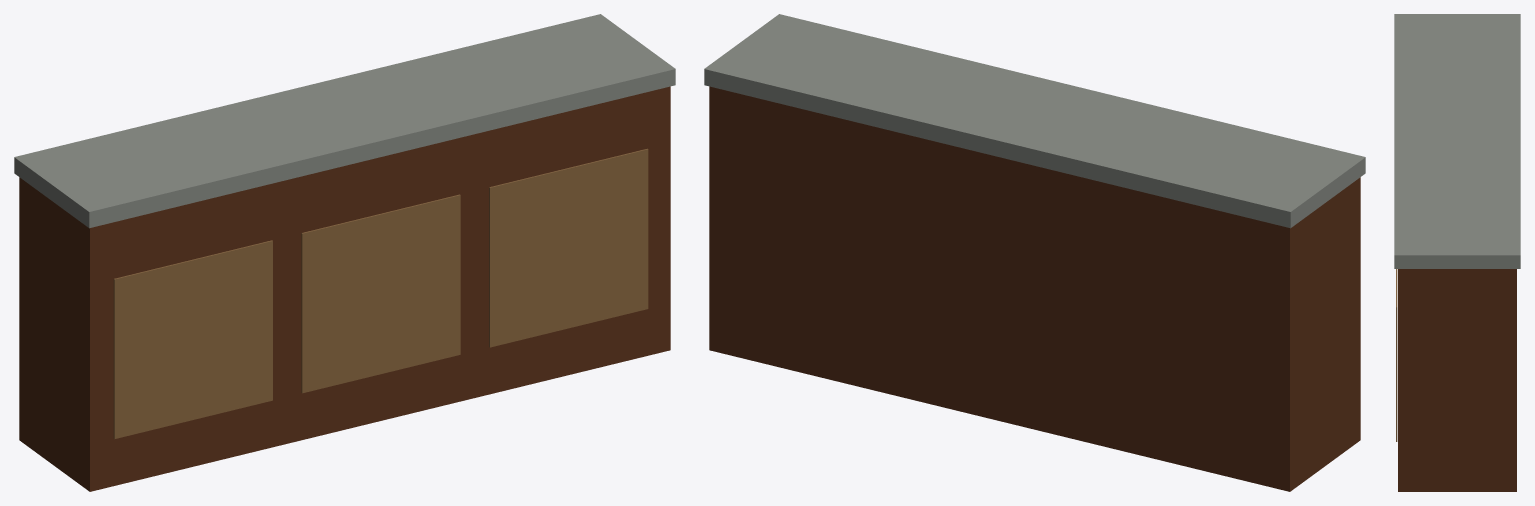
File: bankcounter.glb
3 views of the same model, side by side, from view 1: azimuth 30°, elevation 25°; view 2: azimuth 150°, elevation 25°; view 3: azimuth 270°, elevation 25° (orthographic). The views are drawn at different scales.
Parts seen in each view (by area): view 1: body; view 2: body; view 3: body.
Boxes of the visible parts, x1,y1,x2,y2 form: body: [14, 14, 675, 491]; body: [704, 14, 1365, 491]; body: [1394, 14, 1520, 491].
Size of the model in its own units: 3.6 by 1.65 by 0.798.
Materials: 1 (1 with a texture image).
